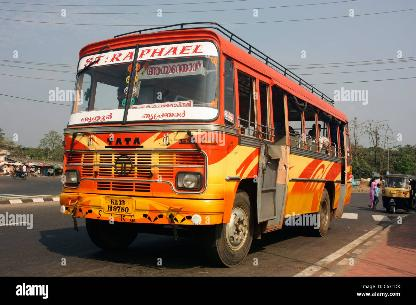bus: (58, 18, 358, 260)
